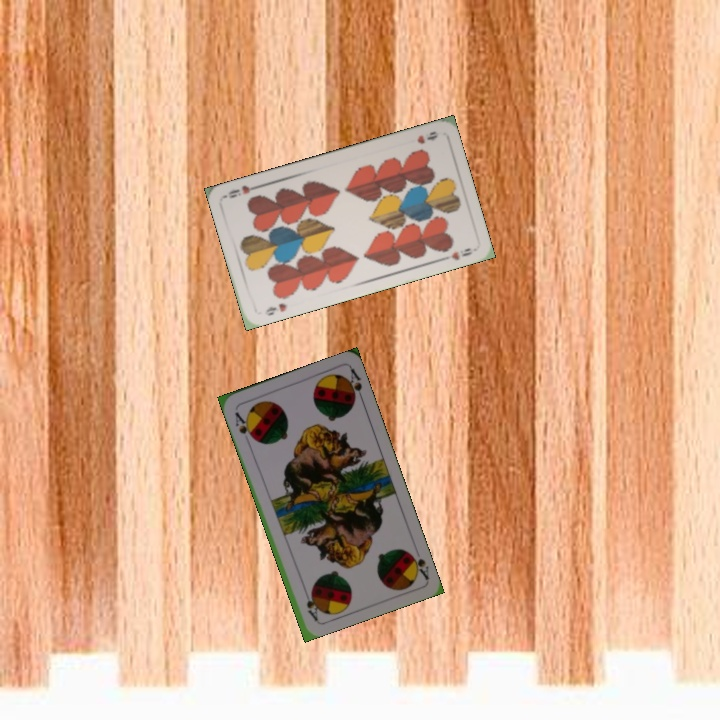H9: (413, 127, 441, 147), (261, 299, 289, 318)
SA: (404, 547, 431, 582), (231, 408, 257, 443)
